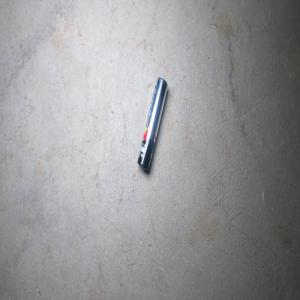Battery: (137, 76, 168, 173)
